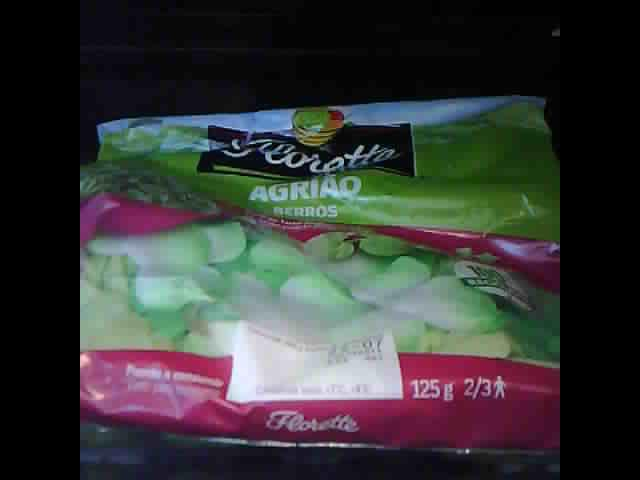florette: (79, 87, 559, 457)
